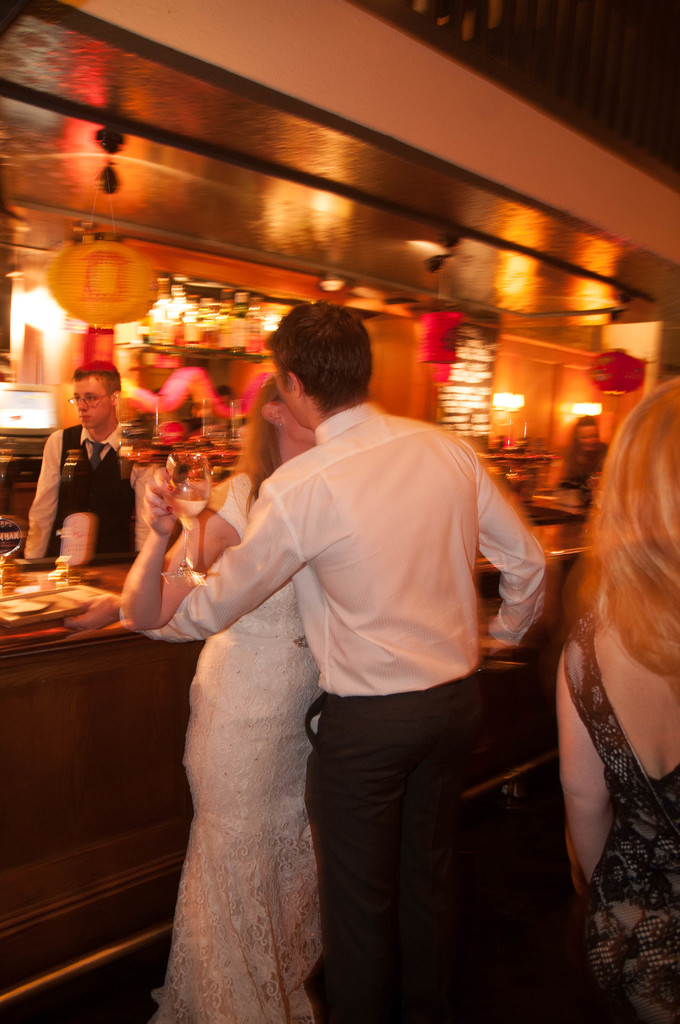Human_hand: (137, 473, 181, 537)
